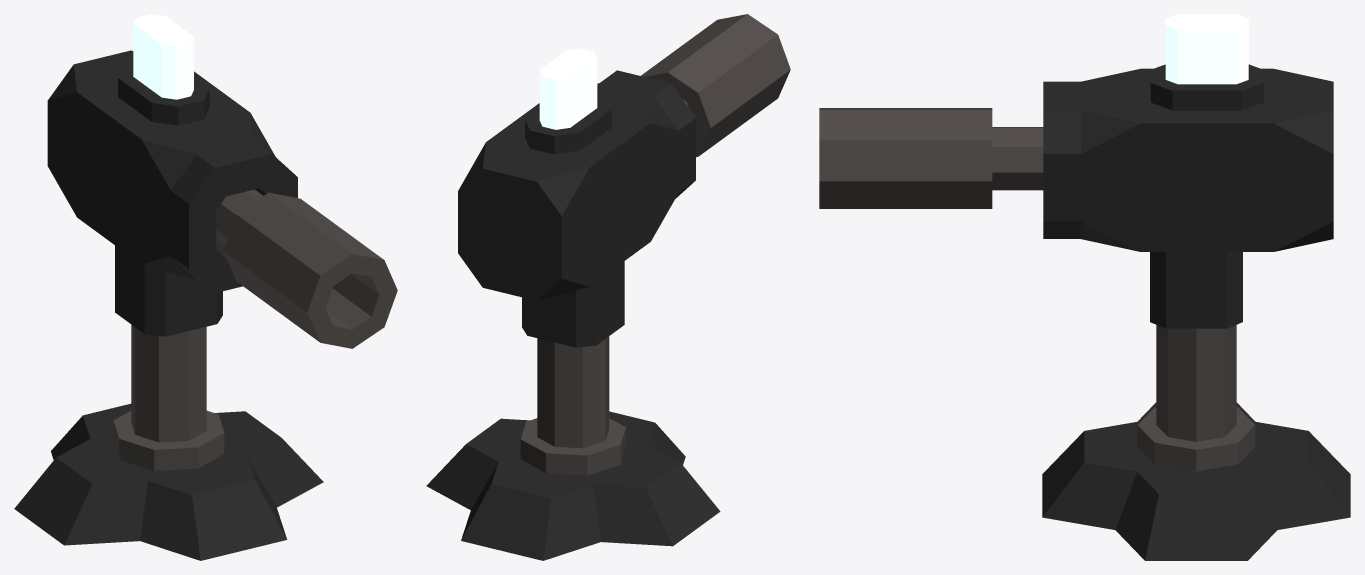
Rendered from turret.fbx.
3 renders of one model, left to right at view 1: azimuth 30°, elevation 25°; view 2: azimuth 150°, elevation 25°; view 3: azimuth 270°, elevation 25°, orthographic. The views are drawn at different scales.
Visible parts, largest first — view 1: ttop, tbot; view 2: ttop, tbot; view 3: ttop, tbot.
Part boxes in pixels (x1,y1,x2,y2): ttop: [47, 14, 397, 348]; tbot: [14, 245, 323, 560]; ttop: [458, 14, 790, 300]; tbot: [426, 261, 720, 560]; ttop: [819, 14, 1333, 251]; tbot: [1042, 252, 1350, 560].
Bounding box in the file's own units: 3.02 × 5.13 × 5.21.
